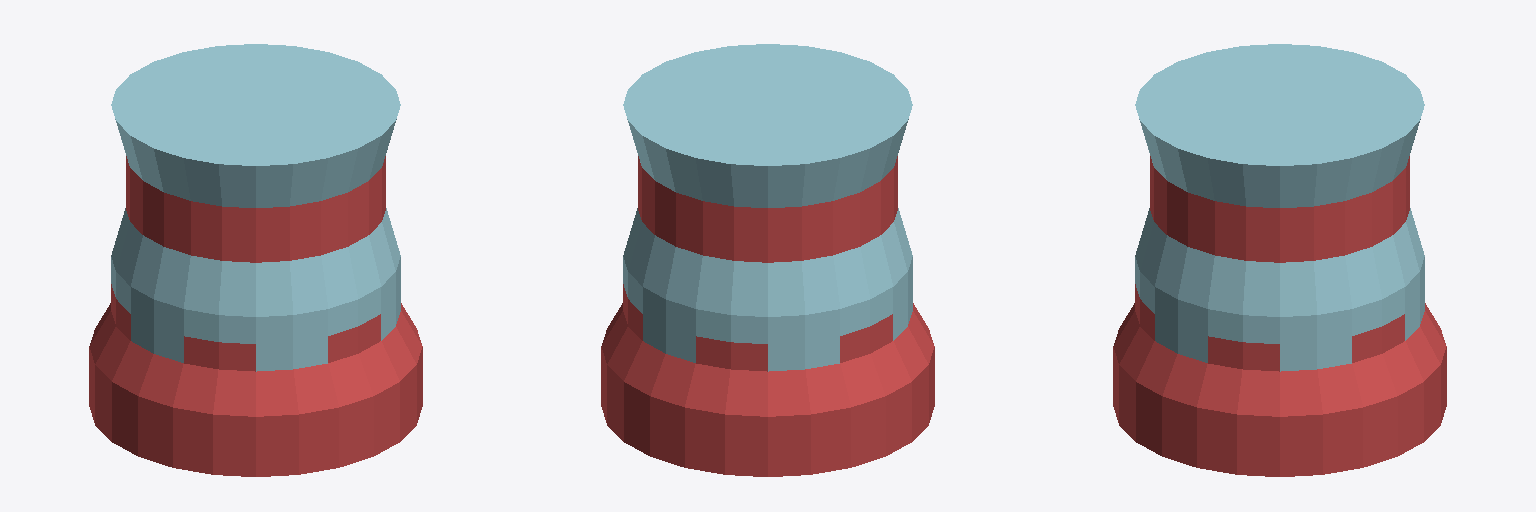
The model's file is Burn.obj.
3 views of the same model, side by side, from view 1: azimuth 30°, elevation 25°; view 2: azimuth 150°, elevation 25°; view 3: azimuth 270°, elevation 25° (orthographic).
Visible parts, largest first — view 1: towerRound_middleA, Burn; view 2: towerRound_middleA, Burn; view 3: towerRound_middleA, Burn.
Boxes of the visible parts, <box> form: towerRound_middleA: <box>111,44,400,316</box>; Burn: <box>89,257,422,476</box>; towerRound_middleA: <box>623,44,912,316</box>; Burn: <box>601,257,934,476</box>; towerRound_middleA: <box>1135,44,1424,316</box>; Burn: <box>1113,257,1446,476</box>.
Size of the model in its own units: 1 by 1 by 1.